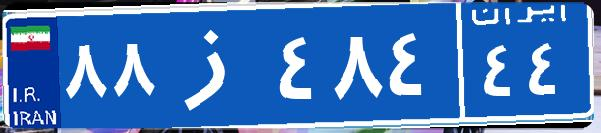4: (385, 28, 445, 110), (273, 28, 330, 110), (475, 38, 525, 113), (525, 38, 570, 115)
8: (330, 28, 385, 110), (57, 26, 110, 107), (110, 28, 158, 105)
ز: (158, 15, 273, 115)
